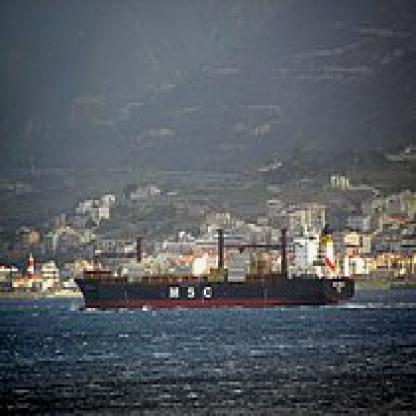Tanker: (70, 221, 364, 313)
